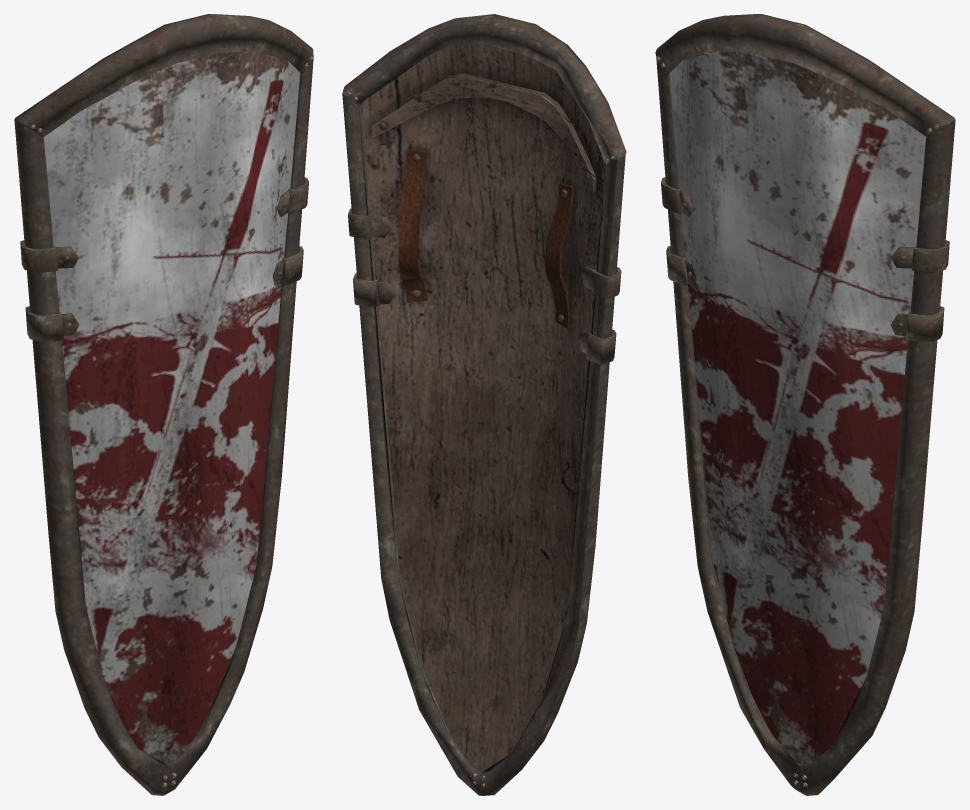
Rendered from kite_shield.glb.
3 renders of one model, left to right at view 1: azimuth 30°, elevation 25°; view 2: azimuth 150°, elevation 25°; view 3: azimuth 330°, elevation 25°, orthographic. The views are drawn at different scales.
Visible parts, largest first — view 1: kite_shield_body, kite_shield_metal_trim, kite_shield_clamps_and_bolts; view 2: kite_shield_body, kite_shield_metal_trim, kite_shield_clamps_and_bolts; view 3: kite_shield_body, kite_shield_metal_trim, kite_shield_clamps_and_bolts.
Boxes of the visible parts, x1,y1,x2,y2 form: kite_shield_body: [43, 51, 300, 764]; kite_shield_metal_trim: [14, 14, 313, 795]; kite_shield_clamps_and_bolts: [20, 56, 313, 787]; kite_shield_body: [360, 45, 605, 772]; kite_shield_metal_trim: [342, 14, 626, 795]; kite_shield_clamps_and_bolts: [348, 92, 621, 786]; kite_shield_body: [669, 51, 950, 765]; kite_shield_metal_trim: [655, 14, 955, 795]; kite_shield_clamps_and_bolts: [656, 56, 949, 787].
Size of the model in its own units: 0.5433 by 1.39 by 0.1347.
Materials: 2 (2 with a texture image).
